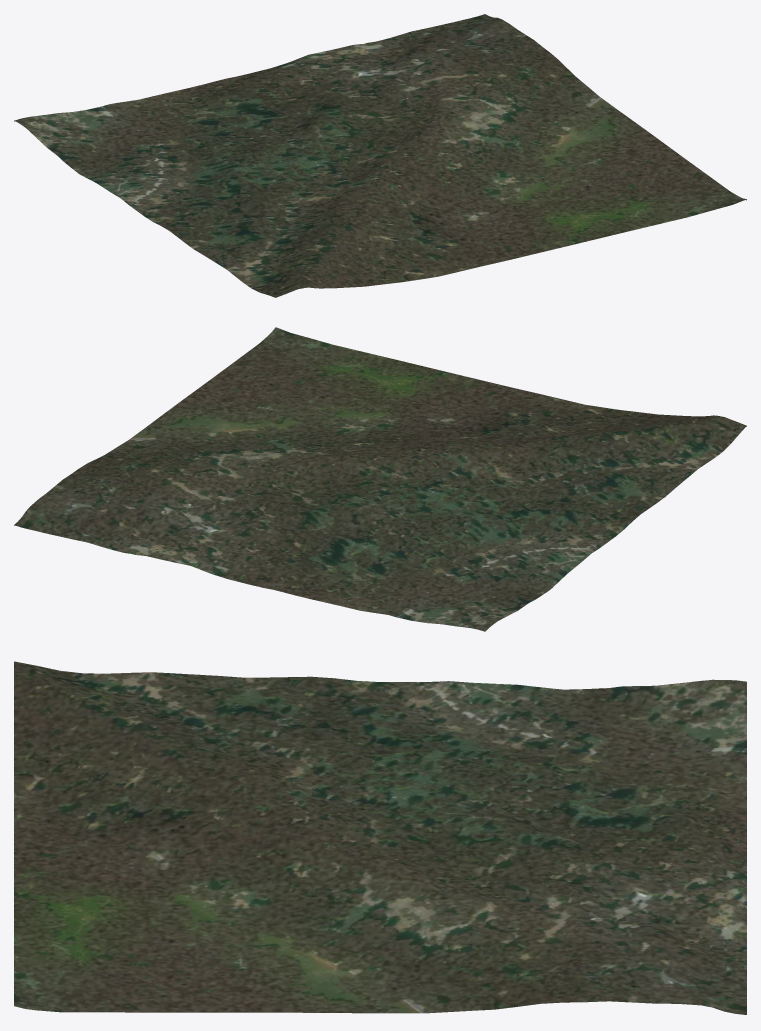
3 renders of one model, top to bottom at view 1: azimuth 30°, elevation 25°; view 2: azimuth 150°, elevation 25°; view 3: azimuth 270°, elevation 25°, orthographic. The views are drawn at different scales.
Size of the model in its own units: 500 by 29.62 by 481.
1 material, 1 textured.
